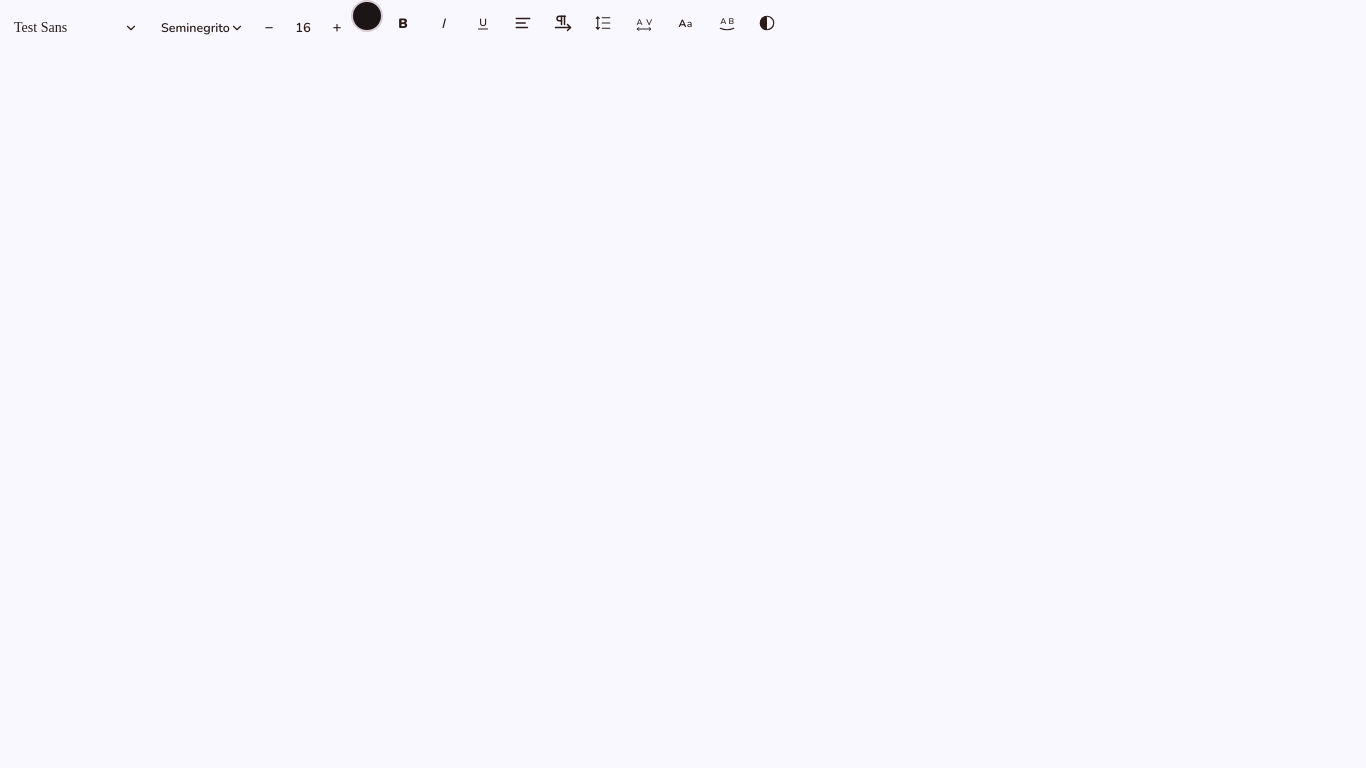
Scenario: font weight menu › offers italic weights when italic is selected and keeps an unavailable saved weight visible
Click the button with test id "ed-font-weight".
click(202, 28)  # box [150,9,255,47]
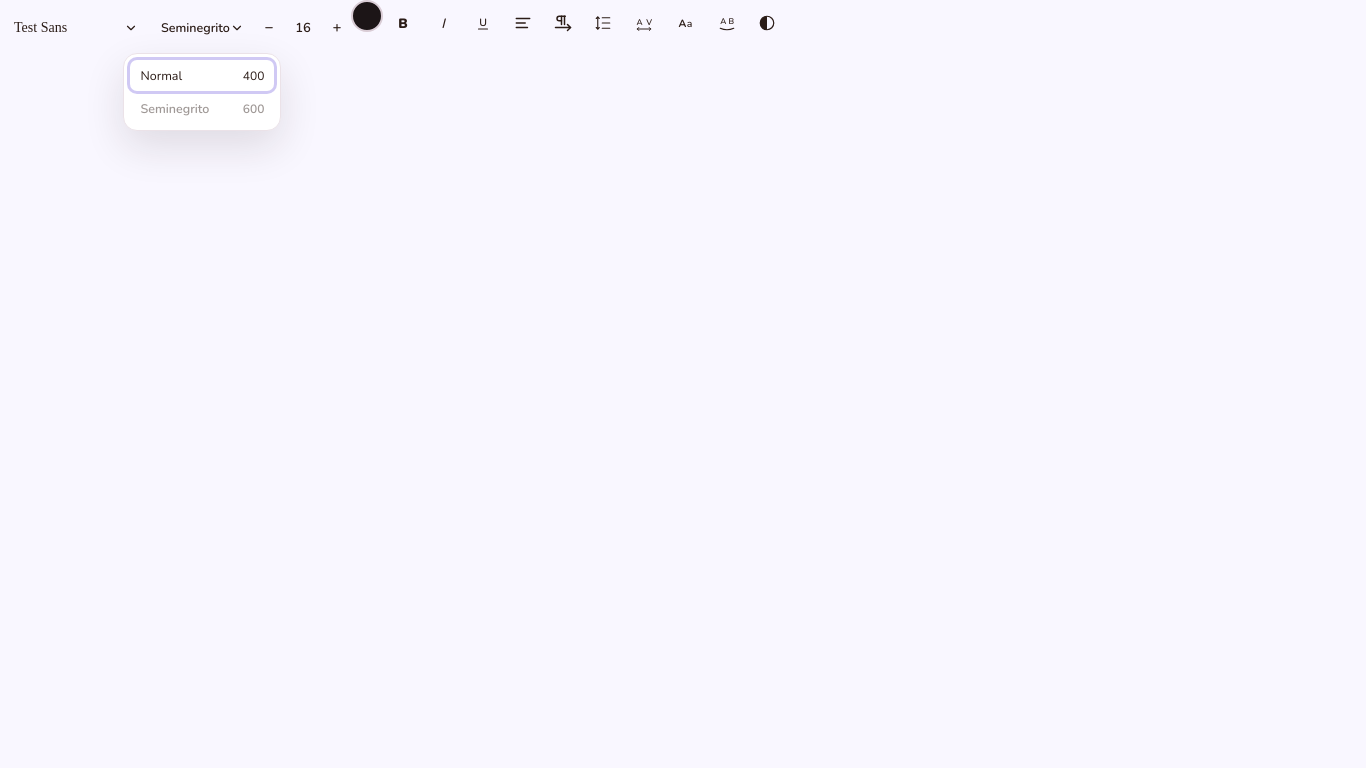
Now the menu item with test id "ed-weight-400" is enabled, box [130,60,274,91]
Now the menu item with test id "ed-weight-600" is disabled, box [130,93,274,124]
